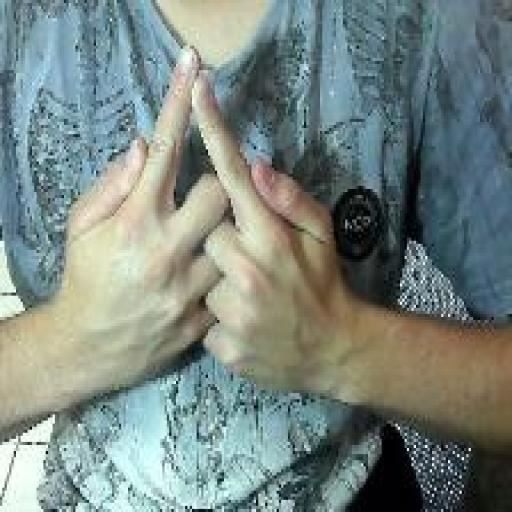Uma -horse-: (60, 38, 340, 416)
